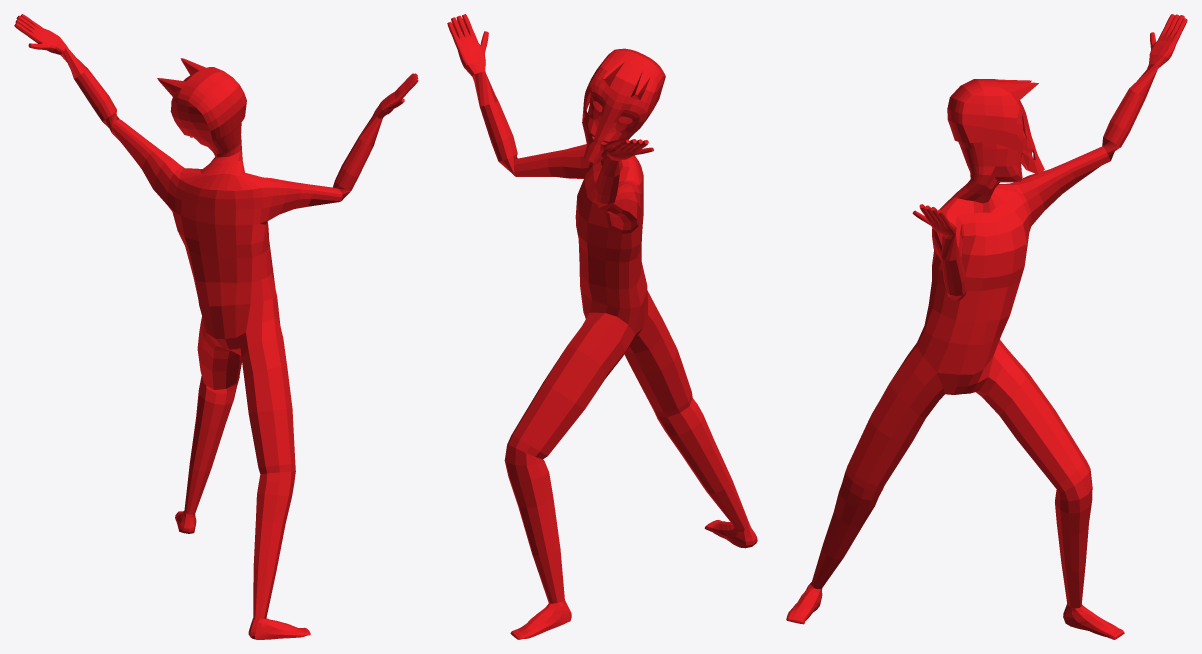
Rendered from activaAlarma_000172.obj.
3 views of the same model, side by side, from view 1: azimuth 30°, elevation 25°; view 2: azimuth 150°, elevation 25°; view 3: azimuth 270°, elevation 25° (orthographic). The views are drawn at different scales.
Visible parts, largest first — view 1: Plane.002_Plane.001; view 2: Plane.002_Plane.001; view 3: Plane.002_Plane.001.
Boxes of the visible parts, x1,y1,x2,y2 form: Plane.002_Plane.001: [14, 14, 418, 639]; Plane.002_Plane.001: [447, 14, 757, 639]; Plane.002_Plane.001: [786, 14, 1187, 639].
Bounding box in the file's own units: 4.07 × 6.85 × 4.5.
